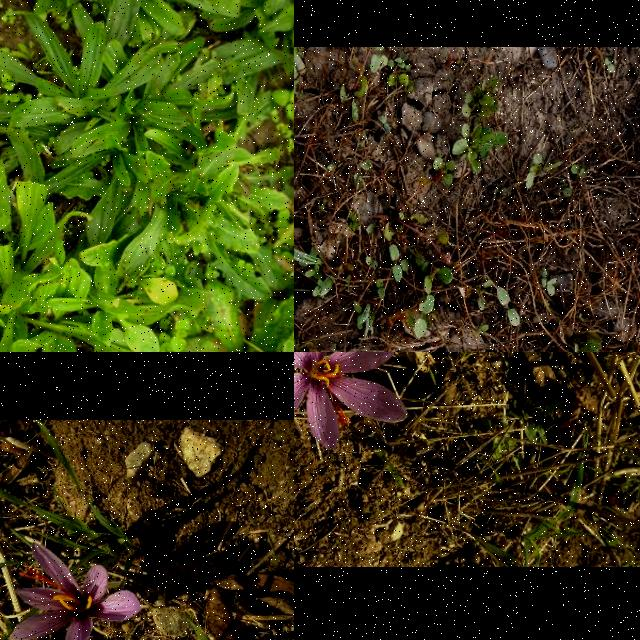flower: (8, 540, 142, 640), (294, 352, 409, 451)
